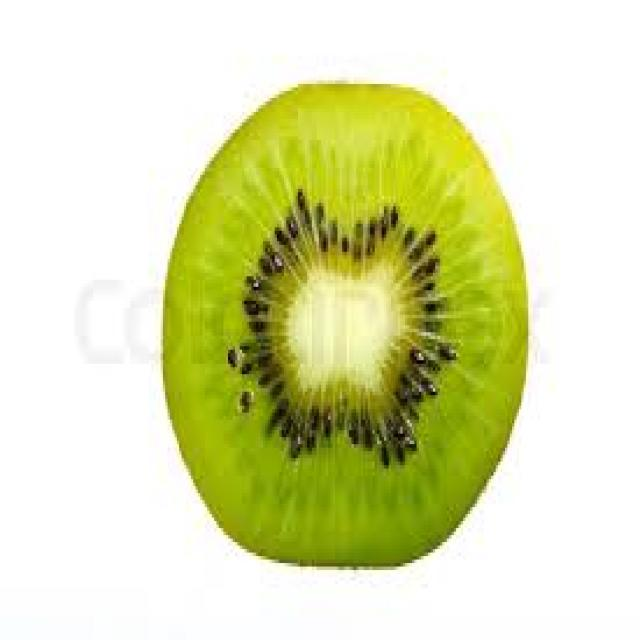organic waste: (158, 77, 526, 566)
